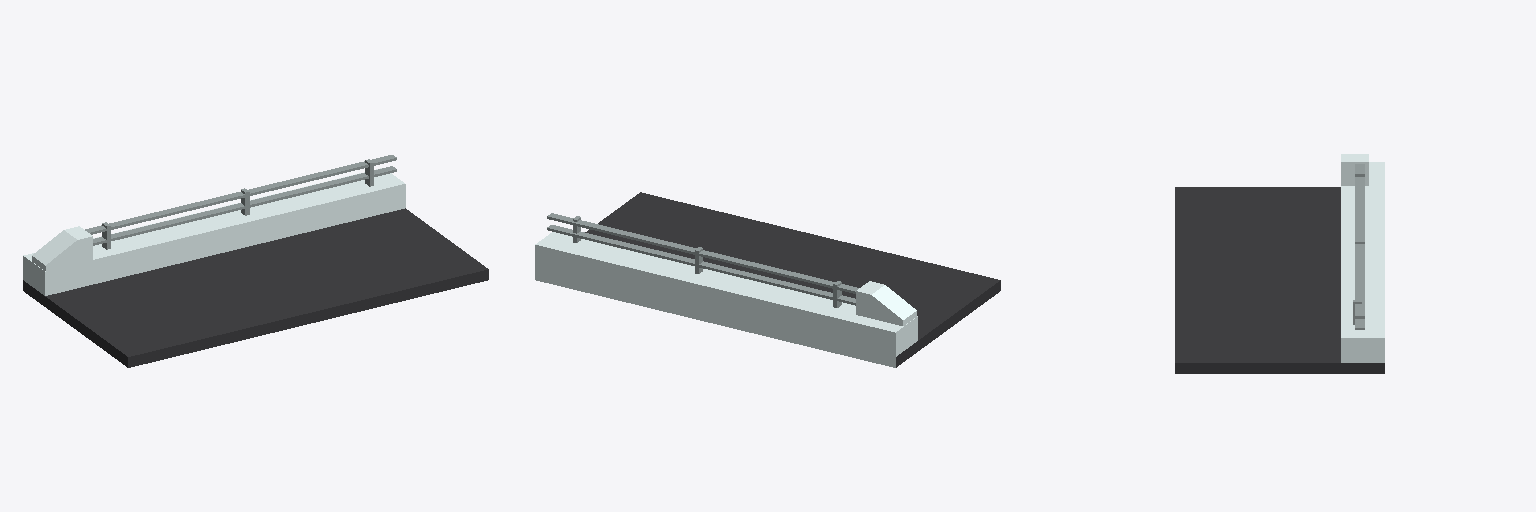
3 views of the same model, side by side, from view 1: azimuth 30°, elevation 25°; view 2: azimuth 150°, elevation 25°; view 3: azimuth 270°, elevation 25° (orthographic).
Visible parts, largest first — view 1: Mesh1 Group2 Group1 Model, Mesh3 Group3 Group1 Model, Mesh5 Group5 Group4 Group1 Model, Mesh11 Group8 Group4 Group1 Model, Mesh15 Group10 Model; view 2: Mesh1 Group2 Group1 Model, Mesh3 Group3 Group1 Model, Mesh5 Group5 Group4 Group1 Model, Mesh11 Group8 Group4 Group1 Model, Mesh15 Group10 Model; view 3: Mesh1 Group2 Group1 Model, Mesh3 Group3 Group1 Model, Mesh5 Group5 Group4 Group1 Model, Mesh15 Group10 Model.
Part boxes in pixels (x1,y1,x2,y2): Mesh1 Group2 Group1 Model: (23, 208, 488, 367); Mesh3 Group3 Group1 Model: (23, 168, 405, 295); Mesh5 Group5 Group4 Group1 Model: (85, 155, 396, 234); Mesh11 Group8 Group4 Group1 Model: (93, 166, 396, 245); Mesh15 Group10 Model: (32, 226, 92, 270); Mesh1 Group2 Group1 Model: (535, 192, 1000, 367); Mesh3 Group3 Group1 Model: (535, 232, 917, 356); Mesh5 Group5 Group4 Group1 Model: (547, 213, 858, 293); Mesh11 Group8 Group4 Group1 Model: (547, 225, 855, 305); Mesh15 Group10 Model: (856, 281, 916, 325); Mesh1 Group2 Group1 Model: (1175, 187, 1384, 373); Mesh3 Group3 Group1 Model: (1341, 162, 1384, 362); Mesh5 Group5 Group4 Group1 Model: (1355, 164, 1364, 318); Mesh15 Group10 Model: (1341, 154, 1368, 185).
Bounding box in the file's own units: 18.15 × 2.85 × 9.18.
3 materials, 1 textured.